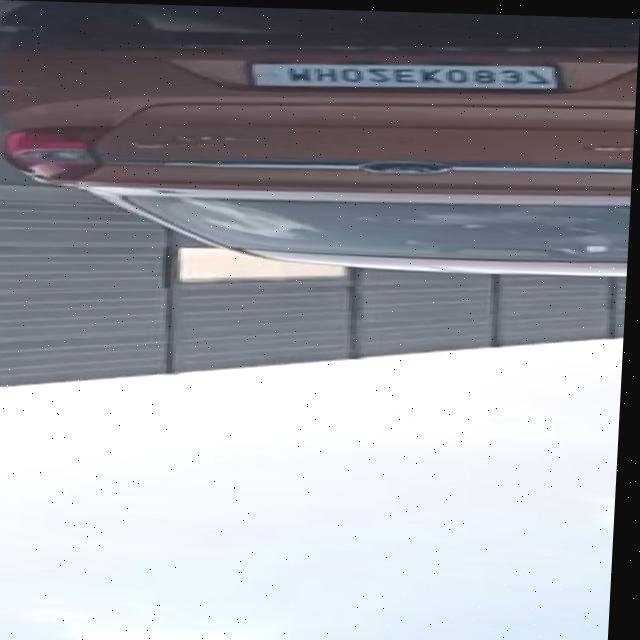plate: (245, 52, 574, 95)
